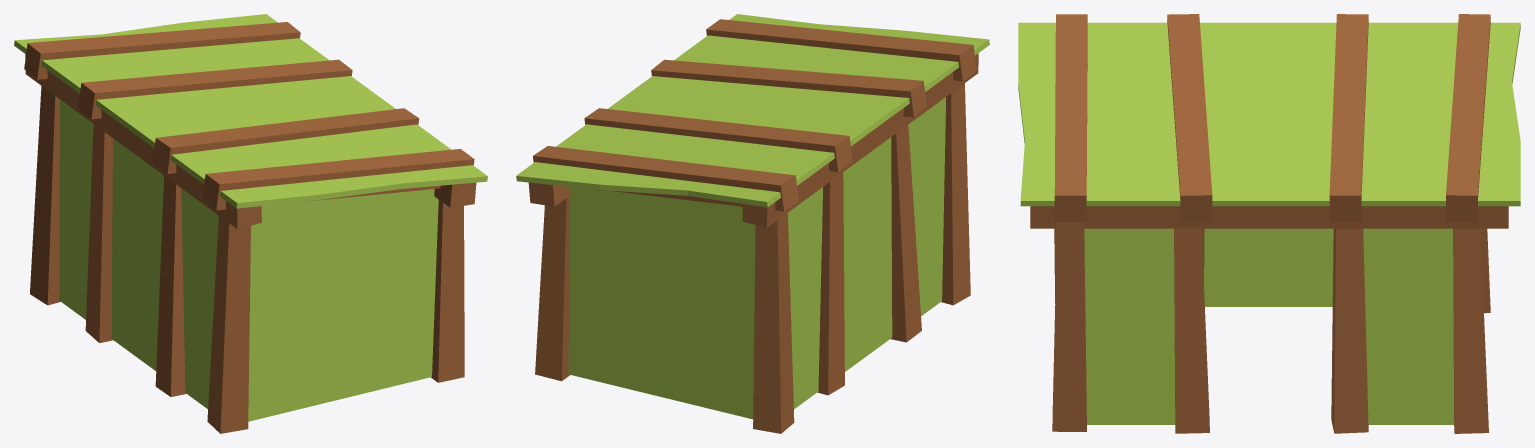
File: Shelter.fbx
The picture shows the model from 3 angles, left to right: view 1: azimuth 30°, elevation 25°; view 2: azimuth 150°, elevation 25°; view 3: azimuth 270°, elevation 25°; orthographic projection. The views are drawn at different scales.
Parts seen in each view (by area): view 1: Cube.008; view 2: Cube.008; view 3: Cube.008.
Boxes of the visible parts, x1,y1,x2,y2 form: Cube.008: (14,14,487,433); Cube.008: (516,14,989,433); Cube.008: (1018,14,1520,433).
Size of the model in its own units: 492 by 330 by 307.
